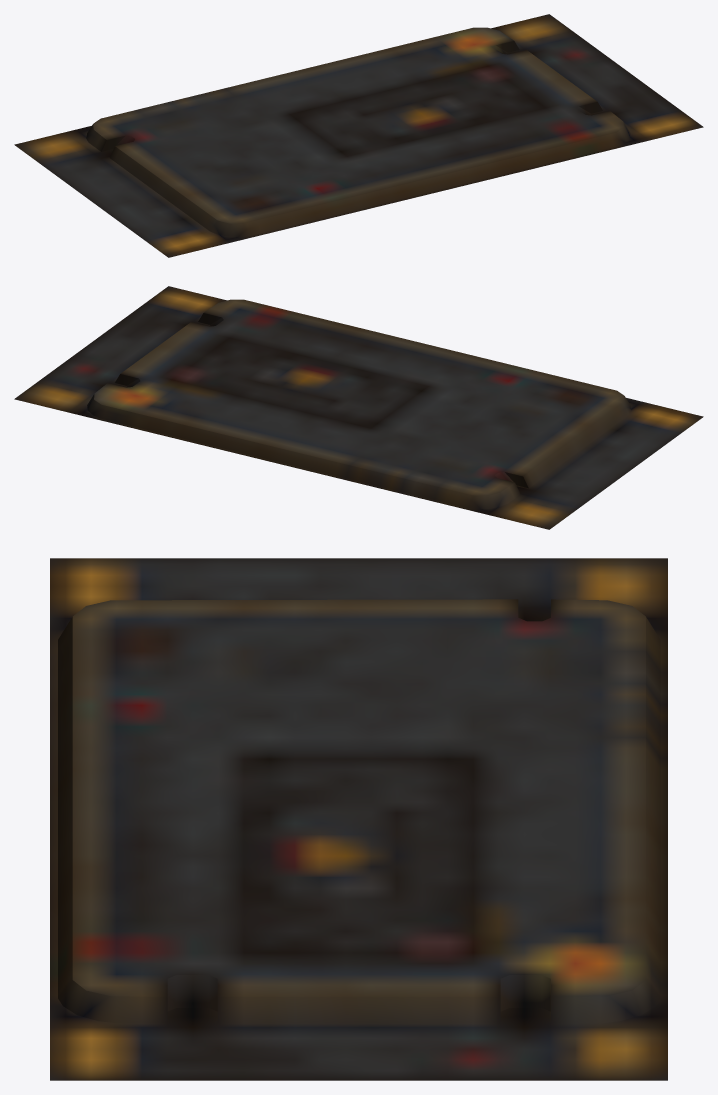
The model's file is Panel_17.FBX.
The picture shows the model from 3 angles, top to bottom: view 1: azimuth 30°, elevation 25°; view 2: azimuth 150°, elevation 25°; view 3: azimuth 270°, elevation 25°; orthographic projection. The views are drawn at different scales.
Parts seen in each view (by area): view 1: Panel_17; view 2: Panel_17; view 3: Panel_17.
Part boxes in pixels (x1,y1,x2,y2): Panel_17: [14, 14, 703, 257]; Panel_17: [14, 286, 703, 529]; Panel_17: [50, 558, 667, 1080].
Bounding box in the file's own units: 200 × 3.72 × 100.
